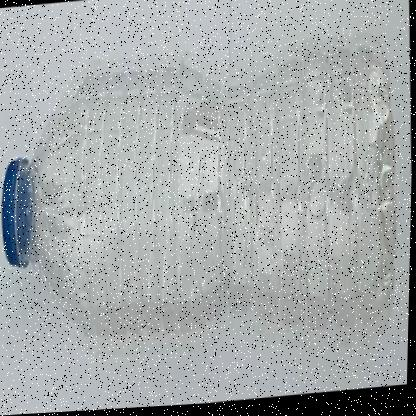bottle cap: (1, 55, 128, 373)
